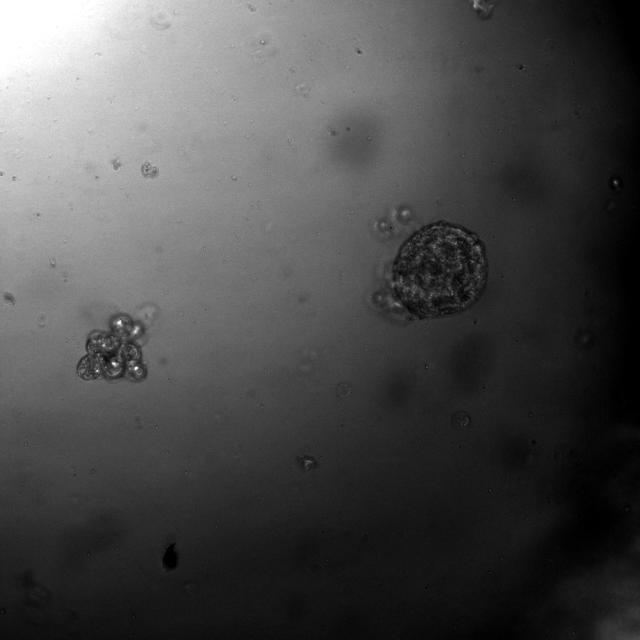organoid: (372, 220, 488, 319), (76, 314, 147, 381), (471, 0, 493, 19), (141, 162, 159, 178)
